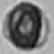correct: (2, 1, 48, 52)
